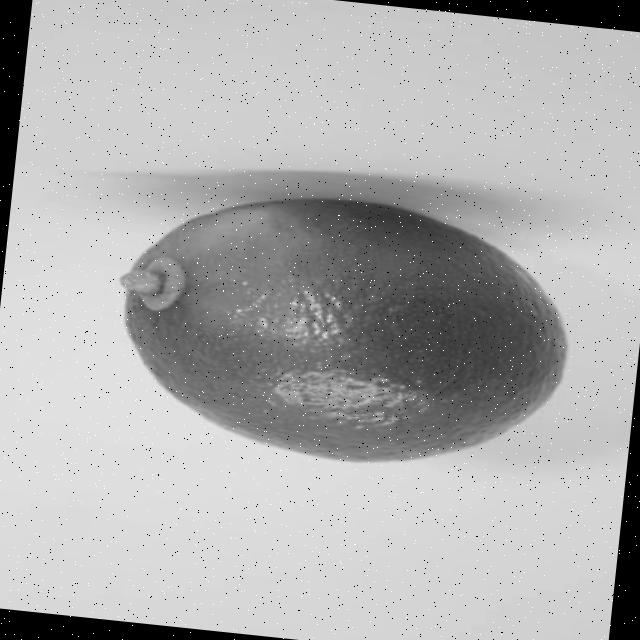Unripe: (109, 180, 582, 482)
